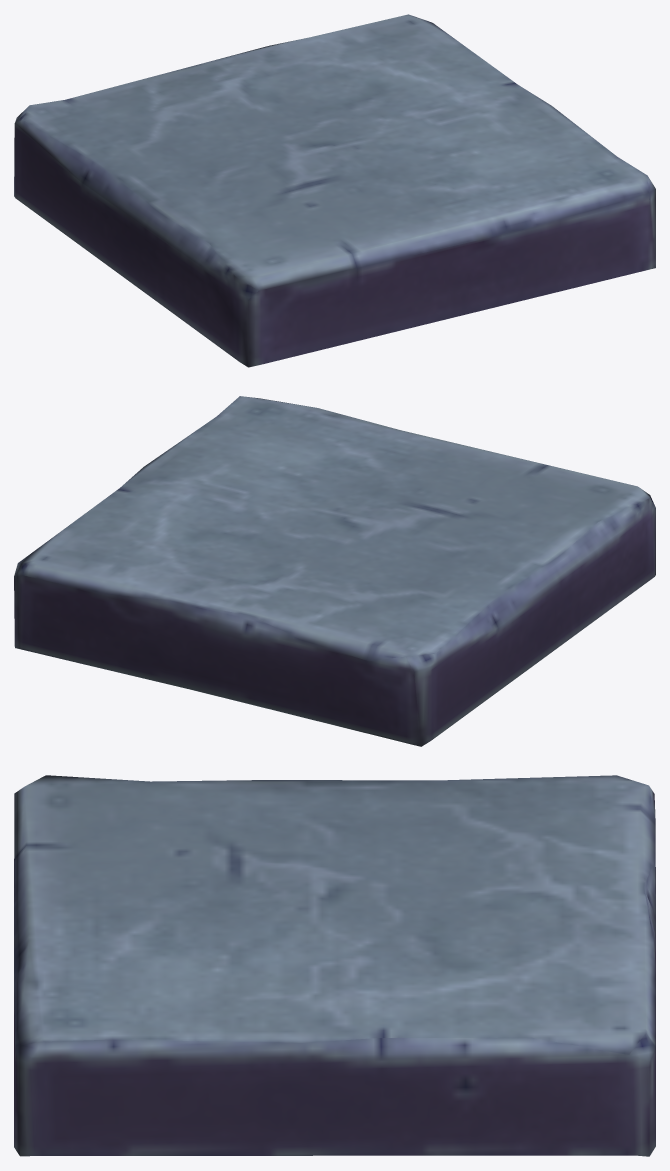
The model's file is Tile1.FBX.
3 renders of one model, top to bottom at view 1: azimuth 30°, elevation 25°; view 2: azimuth 150°, elevation 25°; view 3: azimuth 270°, elevation 25°, orthographic. The views are drawn at different scales.
Visible parts, largest first — view 1: Tile1_01; view 2: Tile1_01; view 3: Tile1_01.
Boxes of the visible parts, x1,y1,x2,y2 form: Tile1_01: (14, 14, 655, 367); Tile1_01: (14, 396, 655, 746); Tile1_01: (14, 775, 655, 1156).
Size of the model in its own units: 2 by 0.4287 by 2.
Materials: 1 (1 with a texture image).
